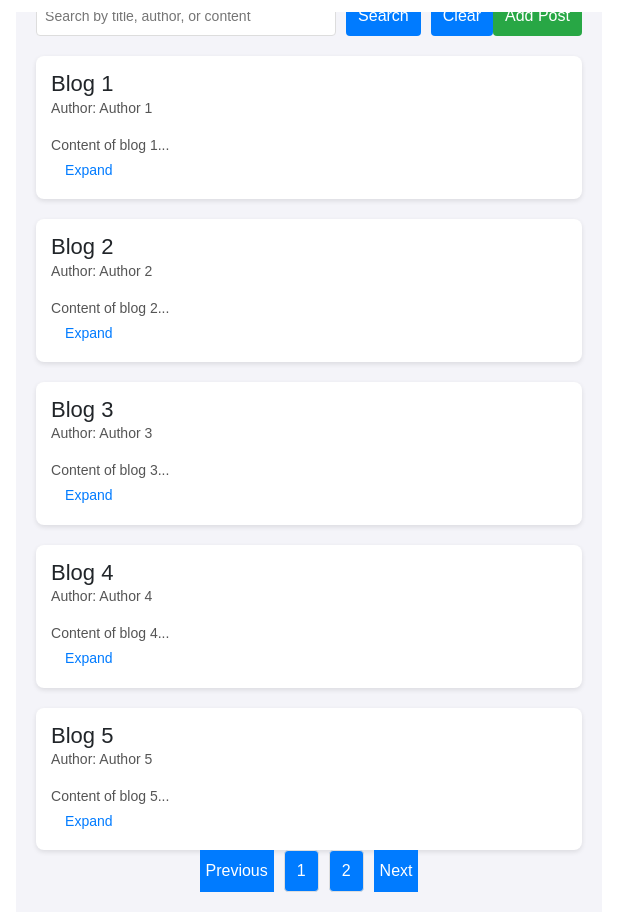
Test: Blogs Component › paginates blog posts correctly
(page scrolled)
Expected: the heading "Blog 1" is shown, x1=51 y1=71 x2=114 y2=96
Expected: the heading "Blog 5" is shown, x1=51 y1=722 x2=114 y2=748
// Navigate to the next page
Click the button "Next" at x=396, y=871, box x1=374 y1=850 x2=418 y2=892
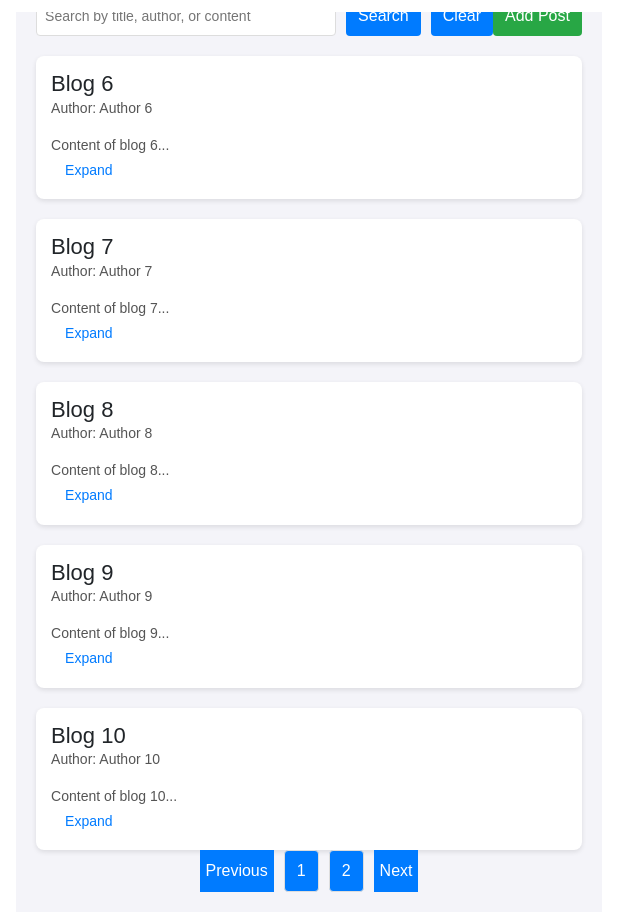
Expected: the heading "Blog 6" is shown, x1=51 y1=71 x2=114 y2=96
Expected: the heading "Blog 10" is shown, x1=51 y1=722 x2=126 y2=748
